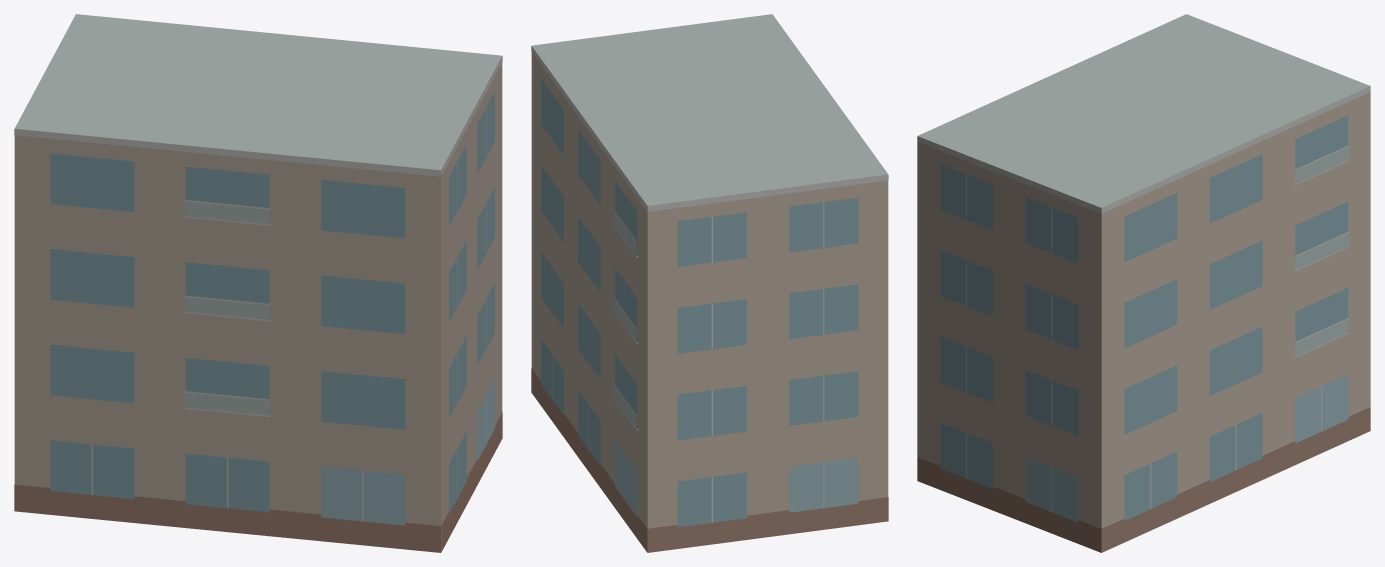
The model's file is survey-upis-33017918.glb.
The picture shows the model from 3 angles, left to right: view 1: azimuth 30°, elevation 25°; view 2: azimuth 150°, elevation 25°; view 3: azimuth 270°, elevation 25°; orthographic projection. The views are drawn at different scales.
Parts seen in each view (by area): view 1: survey-upis-33017918.tmp; view 2: survey-upis-33017918.tmp; view 3: survey-upis-33017918.tmp.
Boxes of the visible parts, box(x1,y1,x2,y2) form: survey-upis-33017918.tmp: box(14, 14, 502, 552); survey-upis-33017918.tmp: box(531, 14, 888, 552); survey-upis-33017918.tmp: box(917, 14, 1370, 552).
Bounding box in the file's own units: 17.25 × 14.3 × 17.04.
